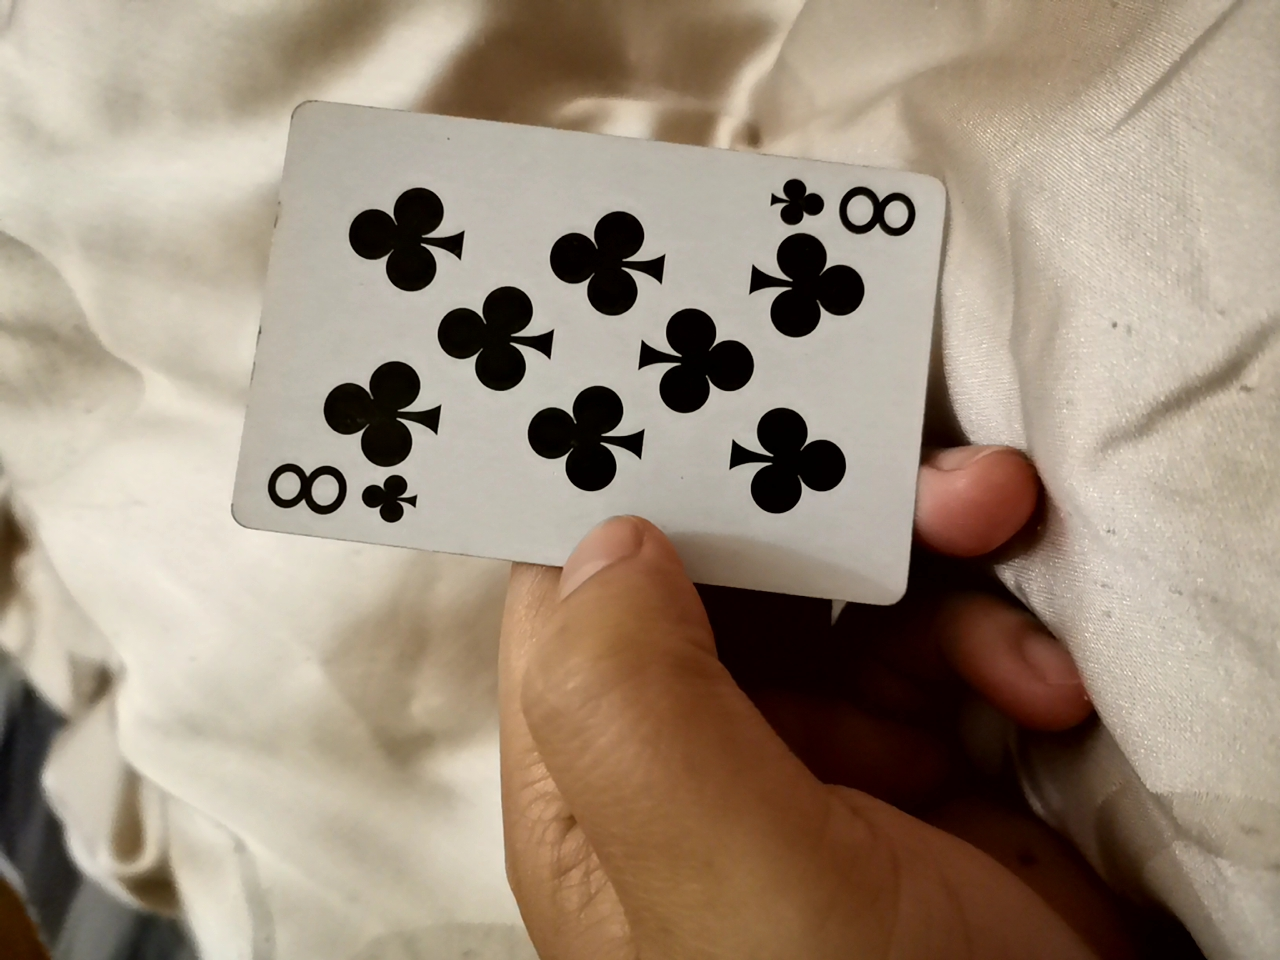mh 8: (215, 105, 976, 595)
